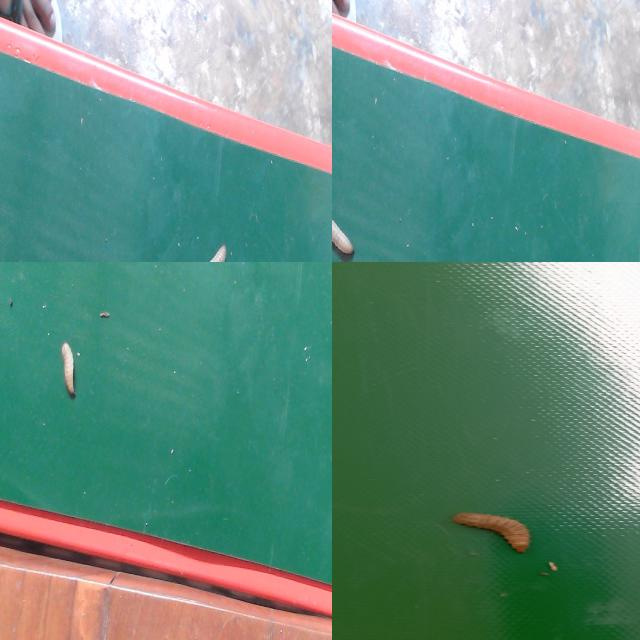Maggot: (452, 512, 531, 556), (332, 218, 356, 262), (59, 343, 77, 400), (205, 247, 229, 262)
